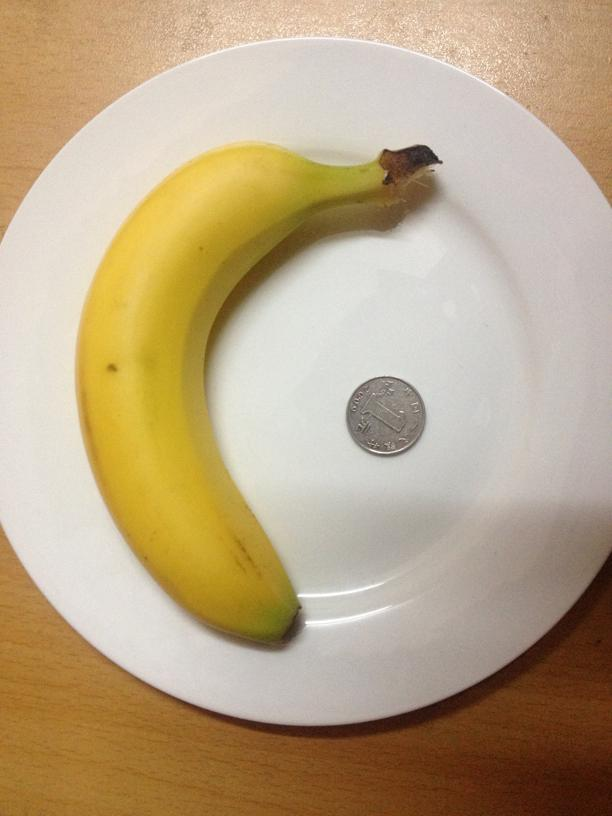banana: (75, 147, 405, 648)
coin: (343, 375, 427, 457)
